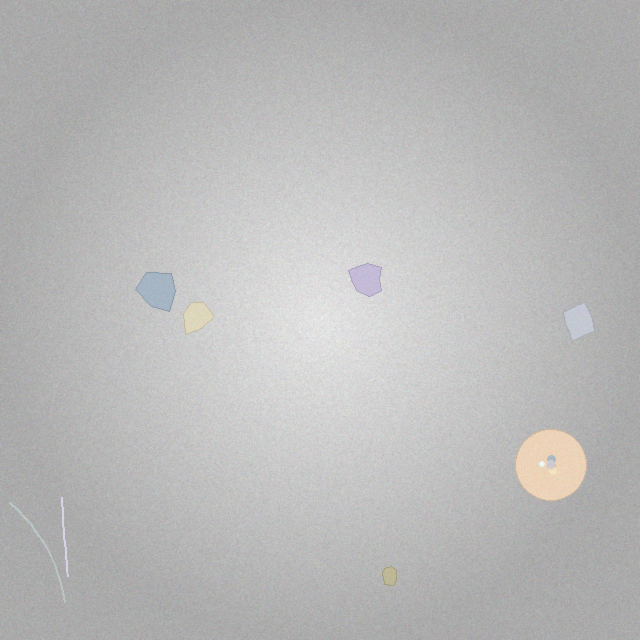fiber: (8, 500, 67, 605), (58, 494, 70, 580)
foam: (516, 429, 587, 501)
fragment: (135, 272, 176, 312), (563, 302, 594, 342), (348, 264, 382, 296), (183, 302, 214, 335), (383, 566, 396, 586)
